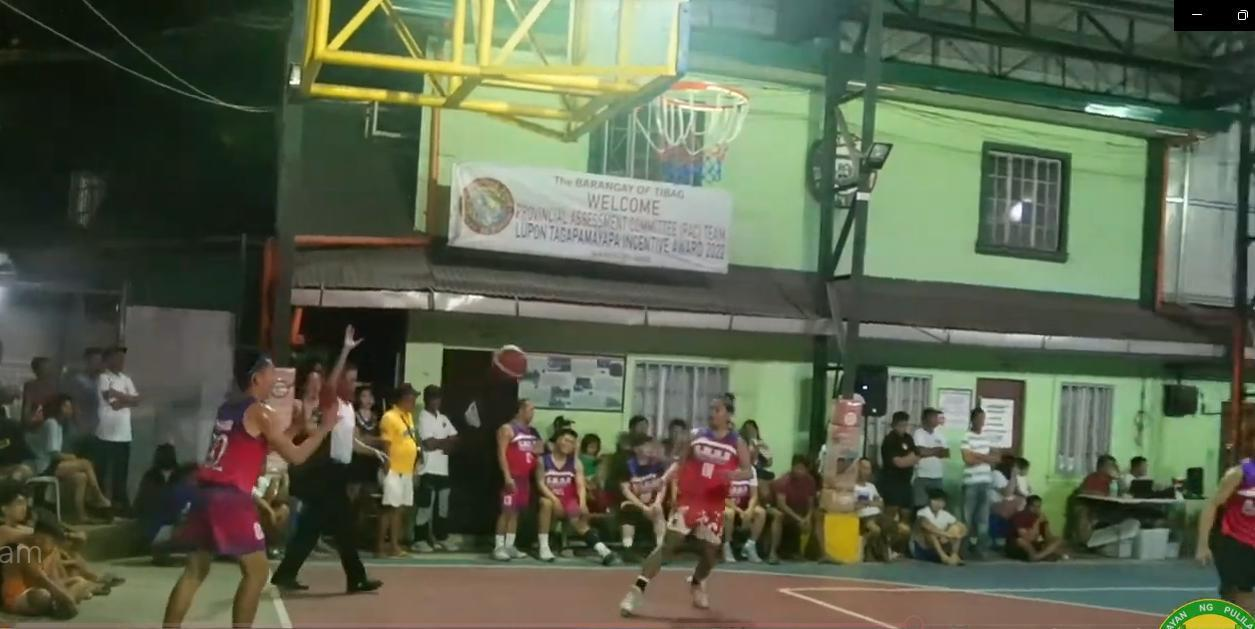ball: (490, 342, 528, 387)
human: (141, 338, 289, 629), (600, 378, 762, 625), (273, 298, 385, 598), (482, 392, 535, 570)
rim: (646, 70, 752, 191)
